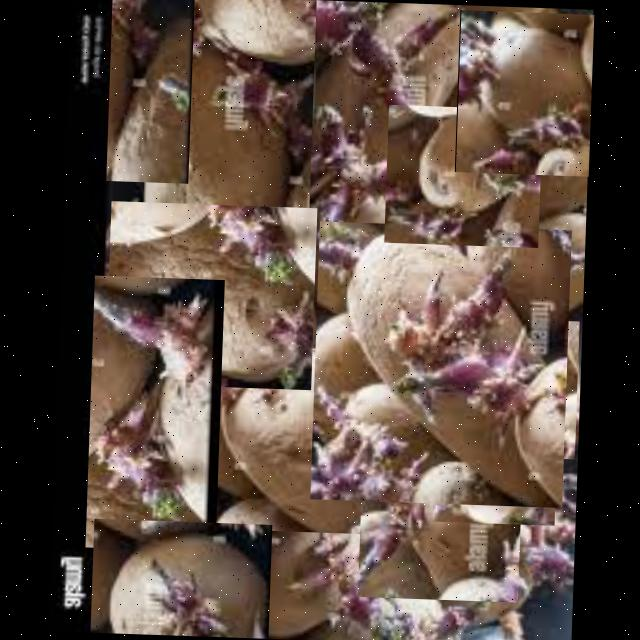Sprouted potato: (308, 220, 570, 508), (161, 344, 419, 536), (139, 0, 315, 279), (104, 200, 316, 390), (84, 276, 223, 552), (302, 2, 472, 200), (288, 122, 448, 316), (356, 451, 522, 602), (453, 10, 593, 176), (382, 105, 542, 248), (89, 518, 271, 638), (234, 498, 387, 640), (431, 387, 558, 525), (104, 0, 193, 183), (446, 508, 575, 632), (349, 563, 491, 640), (505, 319, 578, 459)
